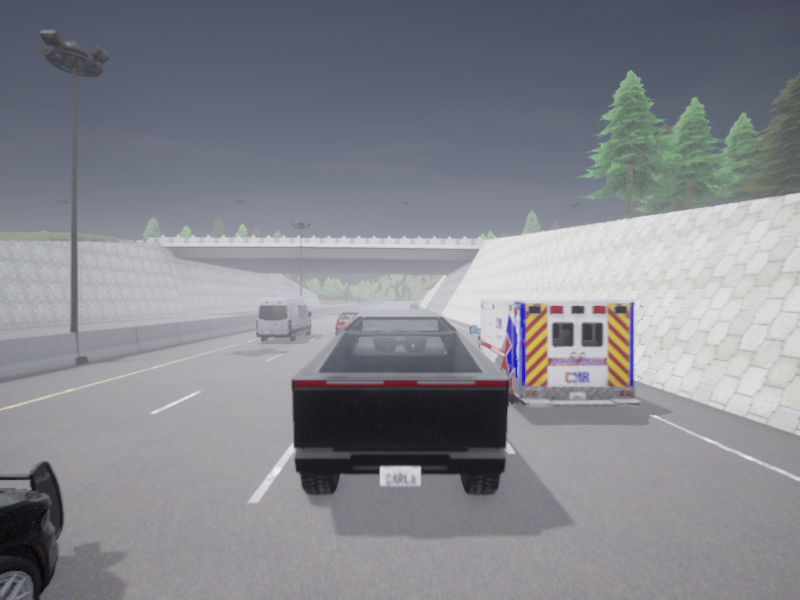vehicle: (291, 316, 508, 494), (469, 299, 640, 406), (0, 461, 63, 599), (256, 298, 311, 341), (335, 312, 360, 335), (409, 303, 417, 308)
